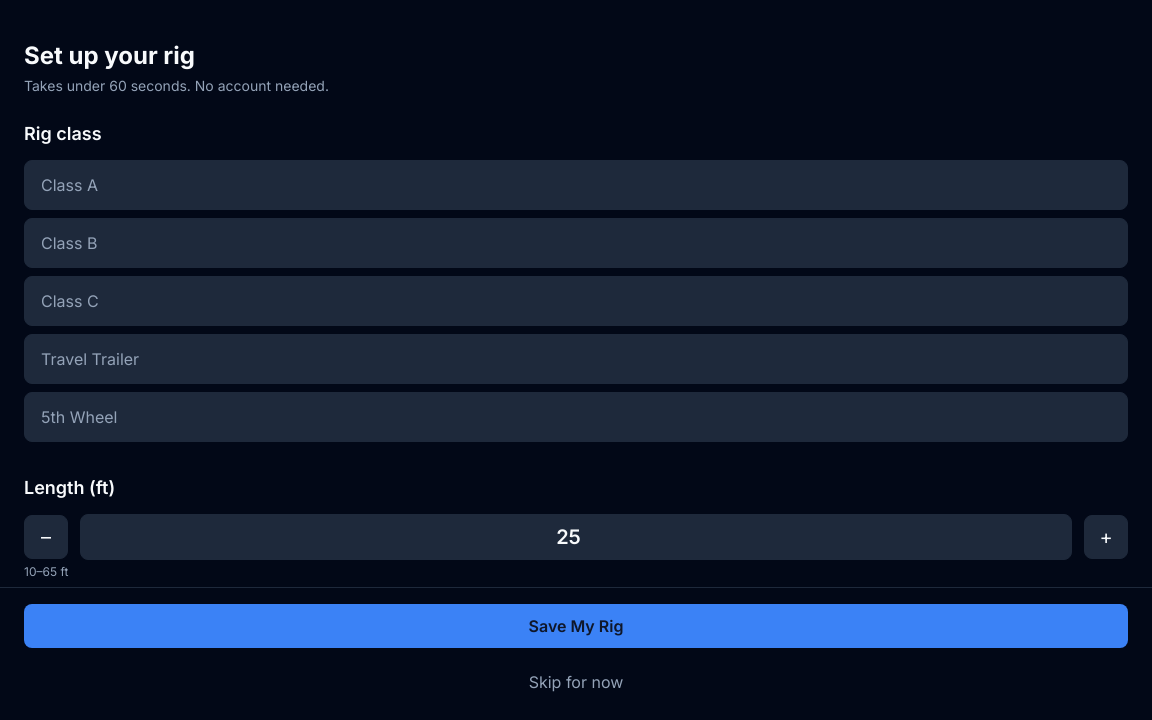
Test: OnboardingScreen › pre-fills length with class default when Class B is selected
Click the radio button labelled "Class B".
click(69, 243)  # box [24, 218, 1128, 268]
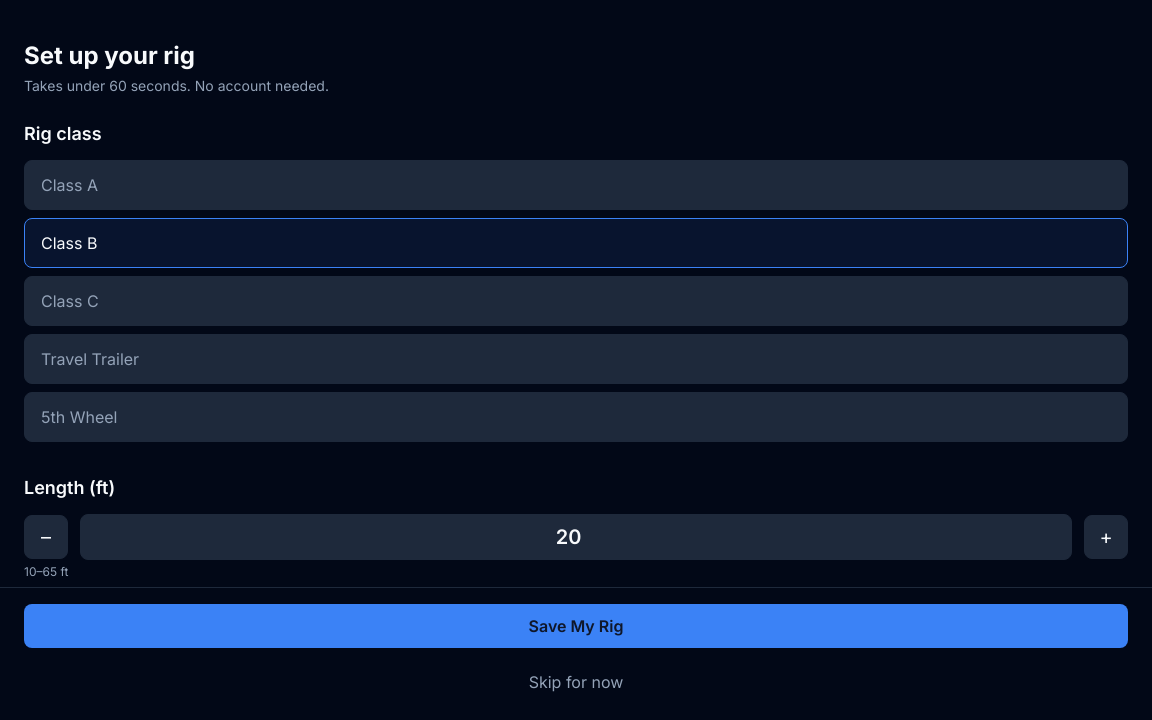
Now the number field named "rig length in feet" holds "20", box [80, 514, 1072, 560]
